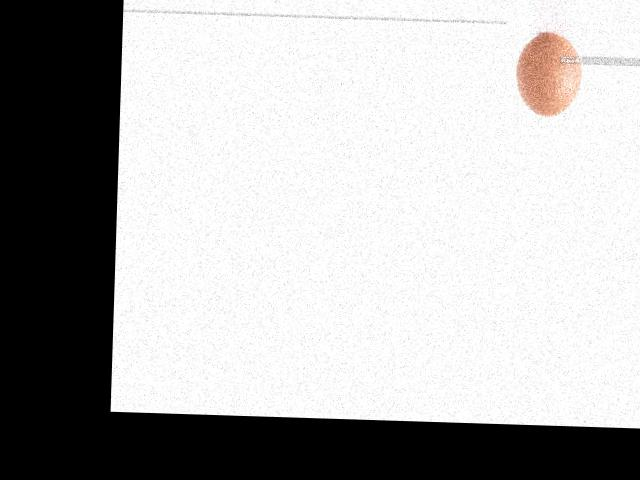egg: (515, 33, 583, 117)
